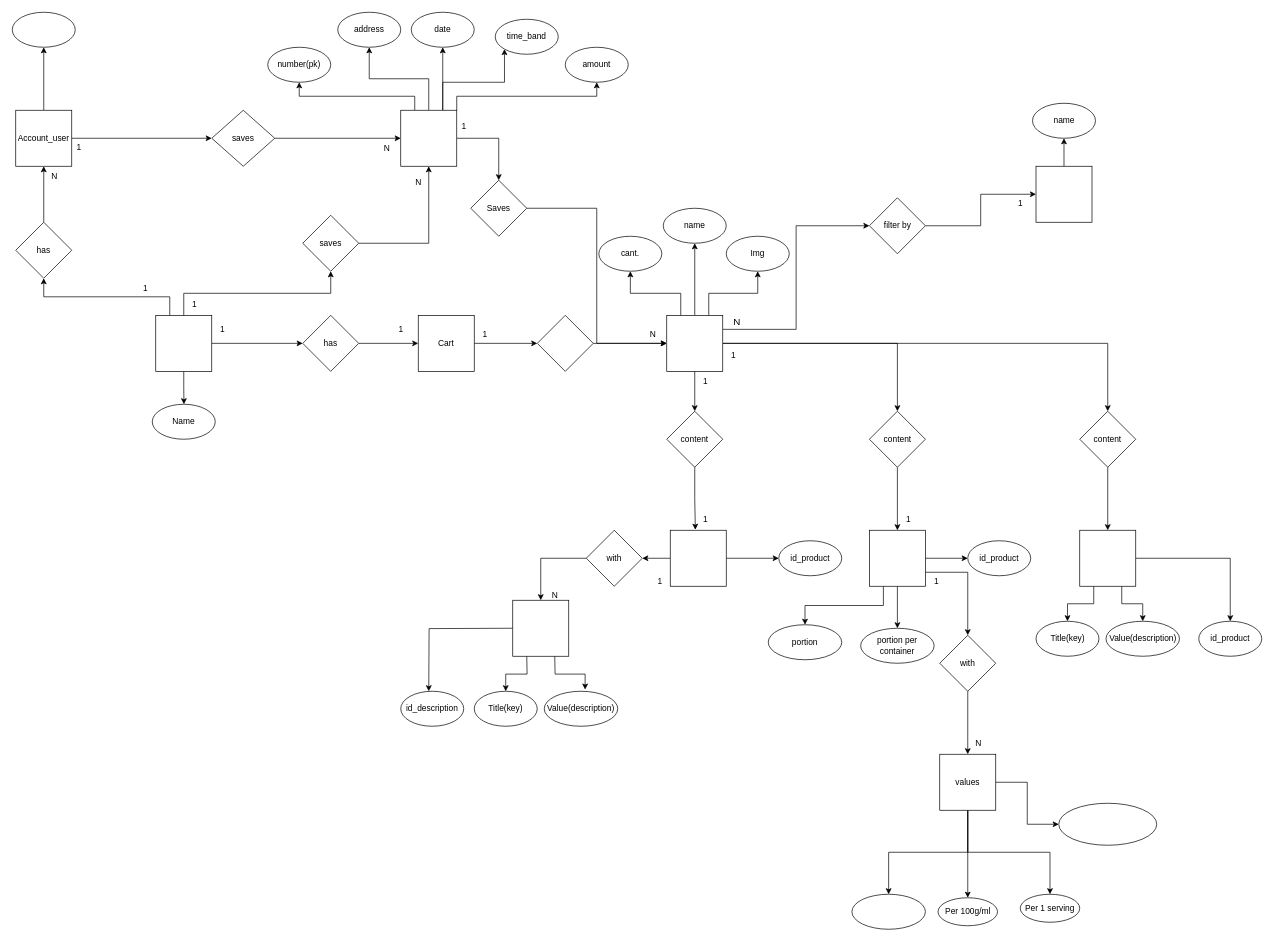
This 1274x942 diagram has some shape labels left out. The shapes that lost their labels are listed below. From the top down, each one's centre as x and y in pixels, then its label:
At point (43, 29): "personal_data".
At point (428, 138): "Order".
At point (1063, 194): "Category".
At point (183, 343): "Ecommerce".
At point (565, 343): "Contains".
At point (694, 343): "Product".
At point (698, 558): "Description".
At point (897, 558): "Nutritional Information".
At point (1107, 558): "specification".
At point (540, 628): "Detail".
At point (1107, 824): "id_nutritional_Iformation".
At point (888, 911): "AverageValues".
